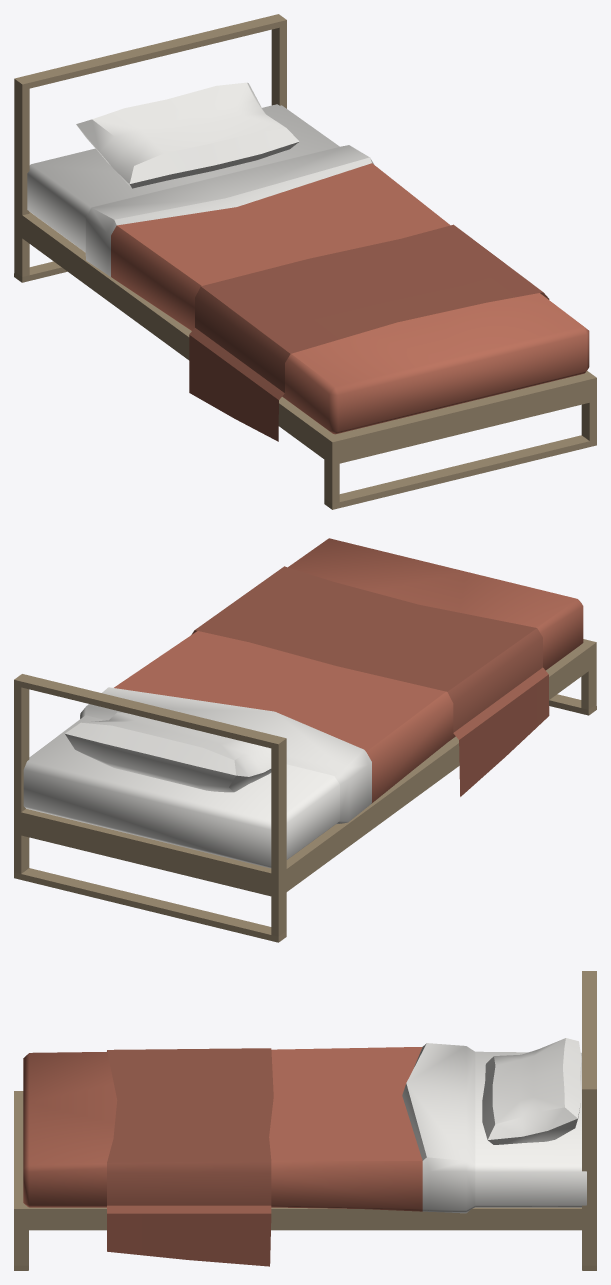
Rendered from bed_single.glb.
3 views of the same model, one above another, from view 1: azimuth 30°, elevation 25°; view 2: azimuth 150°, elevation 25°; view 3: azimuth 270°, elevation 25° (orthographic). The views are drawn at different scales.
Parts seen in each view (by area): view 1: Bed_Single; view 2: Bed_Single; view 3: Bed_Single.
Part boxes in pixels (<box>): Bed_Single: <box>14,14,596,509</box>; Bed_Single: <box>14,538,596,942</box>; Bed_Single: <box>14,971,596,1270</box>.
Bounding box in the file's own units: 1.98 × 1.35 × 3.94.
